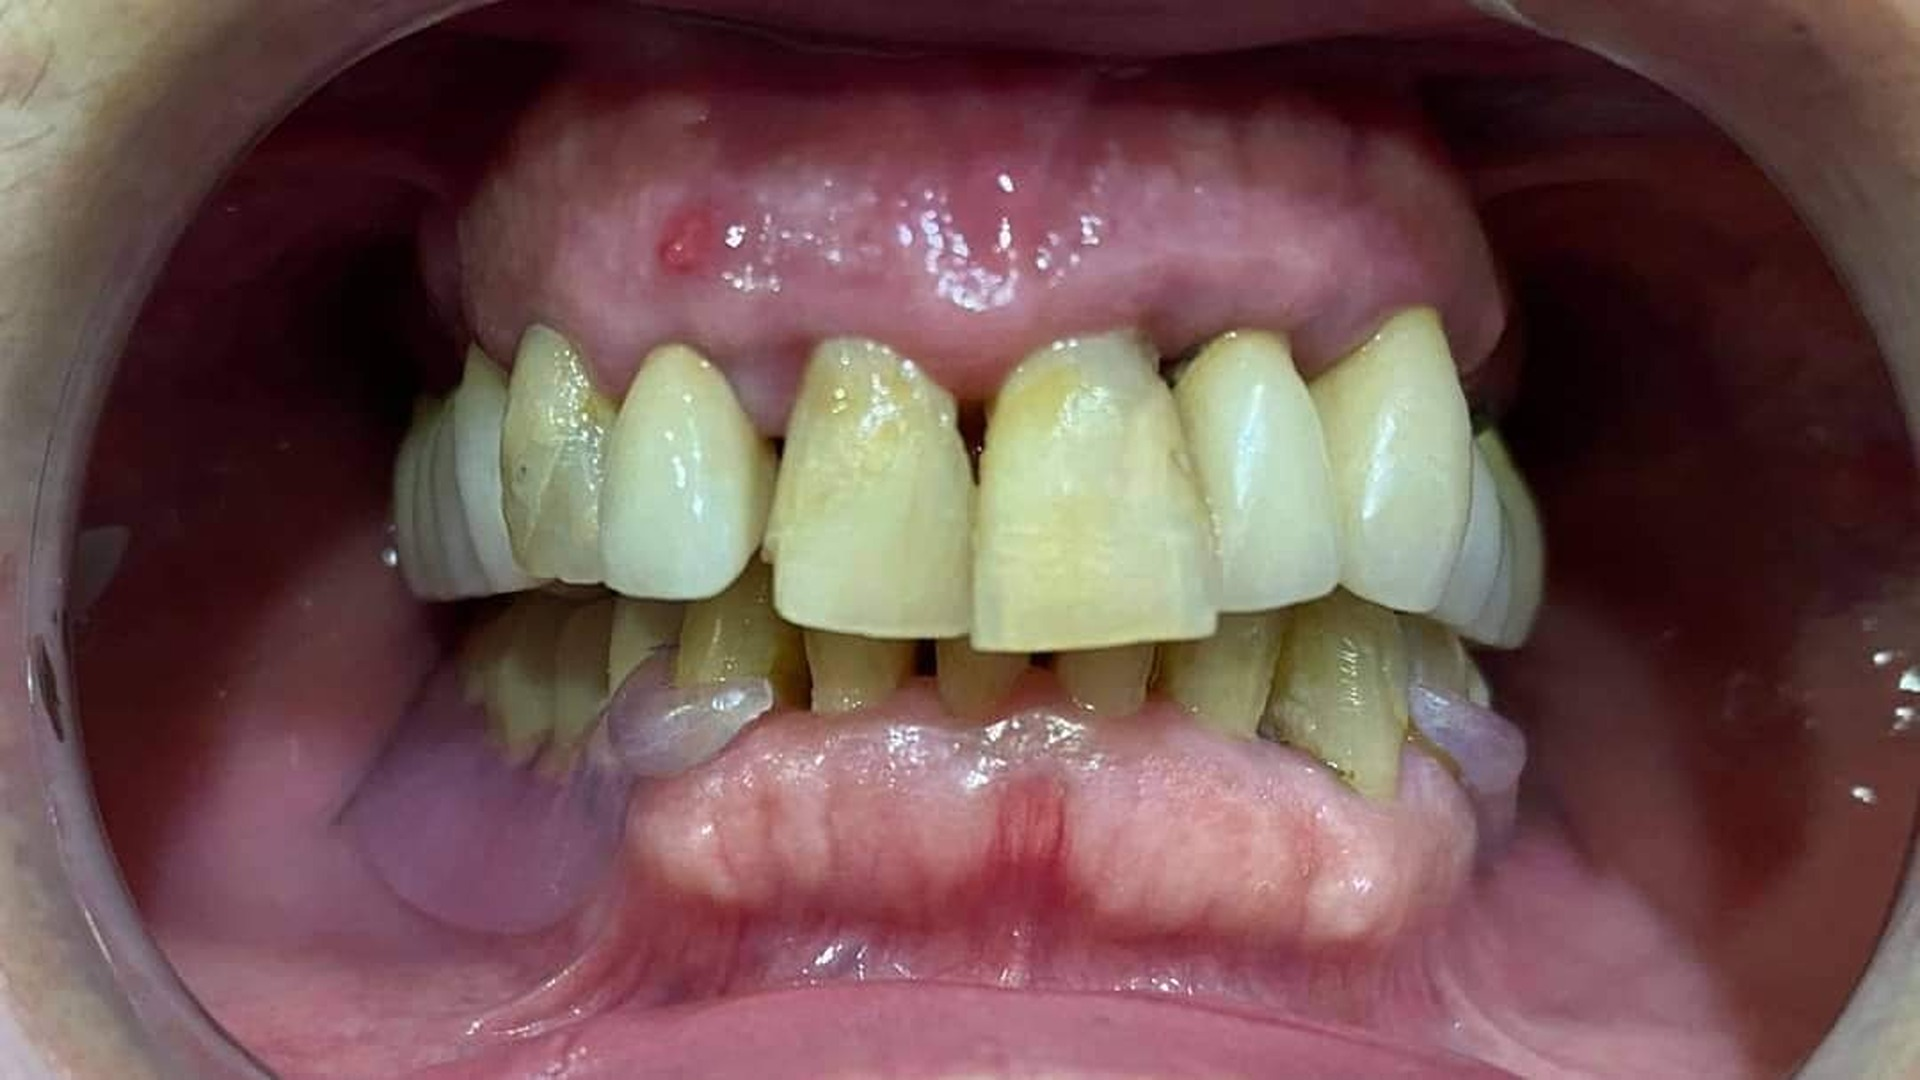tooth: (969, 328, 1217, 651), (764, 336, 976, 638), (1309, 309, 1473, 615), (1172, 328, 1342, 611), (599, 344, 777, 603), (1258, 587, 1410, 799), (501, 323, 616, 583), (455, 344, 535, 593), (1153, 608, 1294, 742), (676, 553, 793, 688), (1429, 439, 1501, 624), (804, 630, 923, 715), (936, 637, 1029, 723), (1054, 645, 1160, 716)
